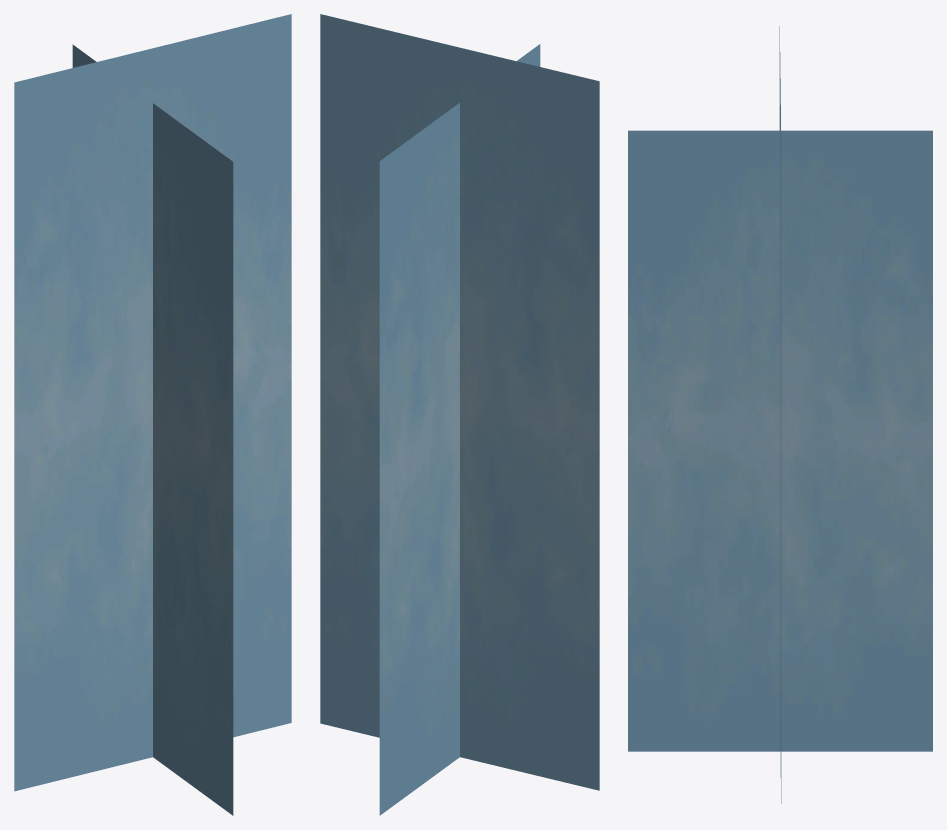
The model's file is fog.fbx.
The picture shows the model from 3 angles, left to right: view 1: azimuth 30°, elevation 25°; view 2: azimuth 150°, elevation 25°; view 3: azimuth 270°, elevation 25°; orthographic projection. The views are drawn at different scales.
Parts seen in each view (by area): view 1: obj0.033; view 2: obj0.033; view 3: obj0.033.
Boxes of the visible parts, bbox=[...] form: obj0.033: bbox=[14, 14, 291, 815]; obj0.033: bbox=[320, 14, 599, 815]; obj0.033: bbox=[628, 26, 932, 803].
Bounding box in the file's own units: 11.69 × 28.46 × 11.69.
